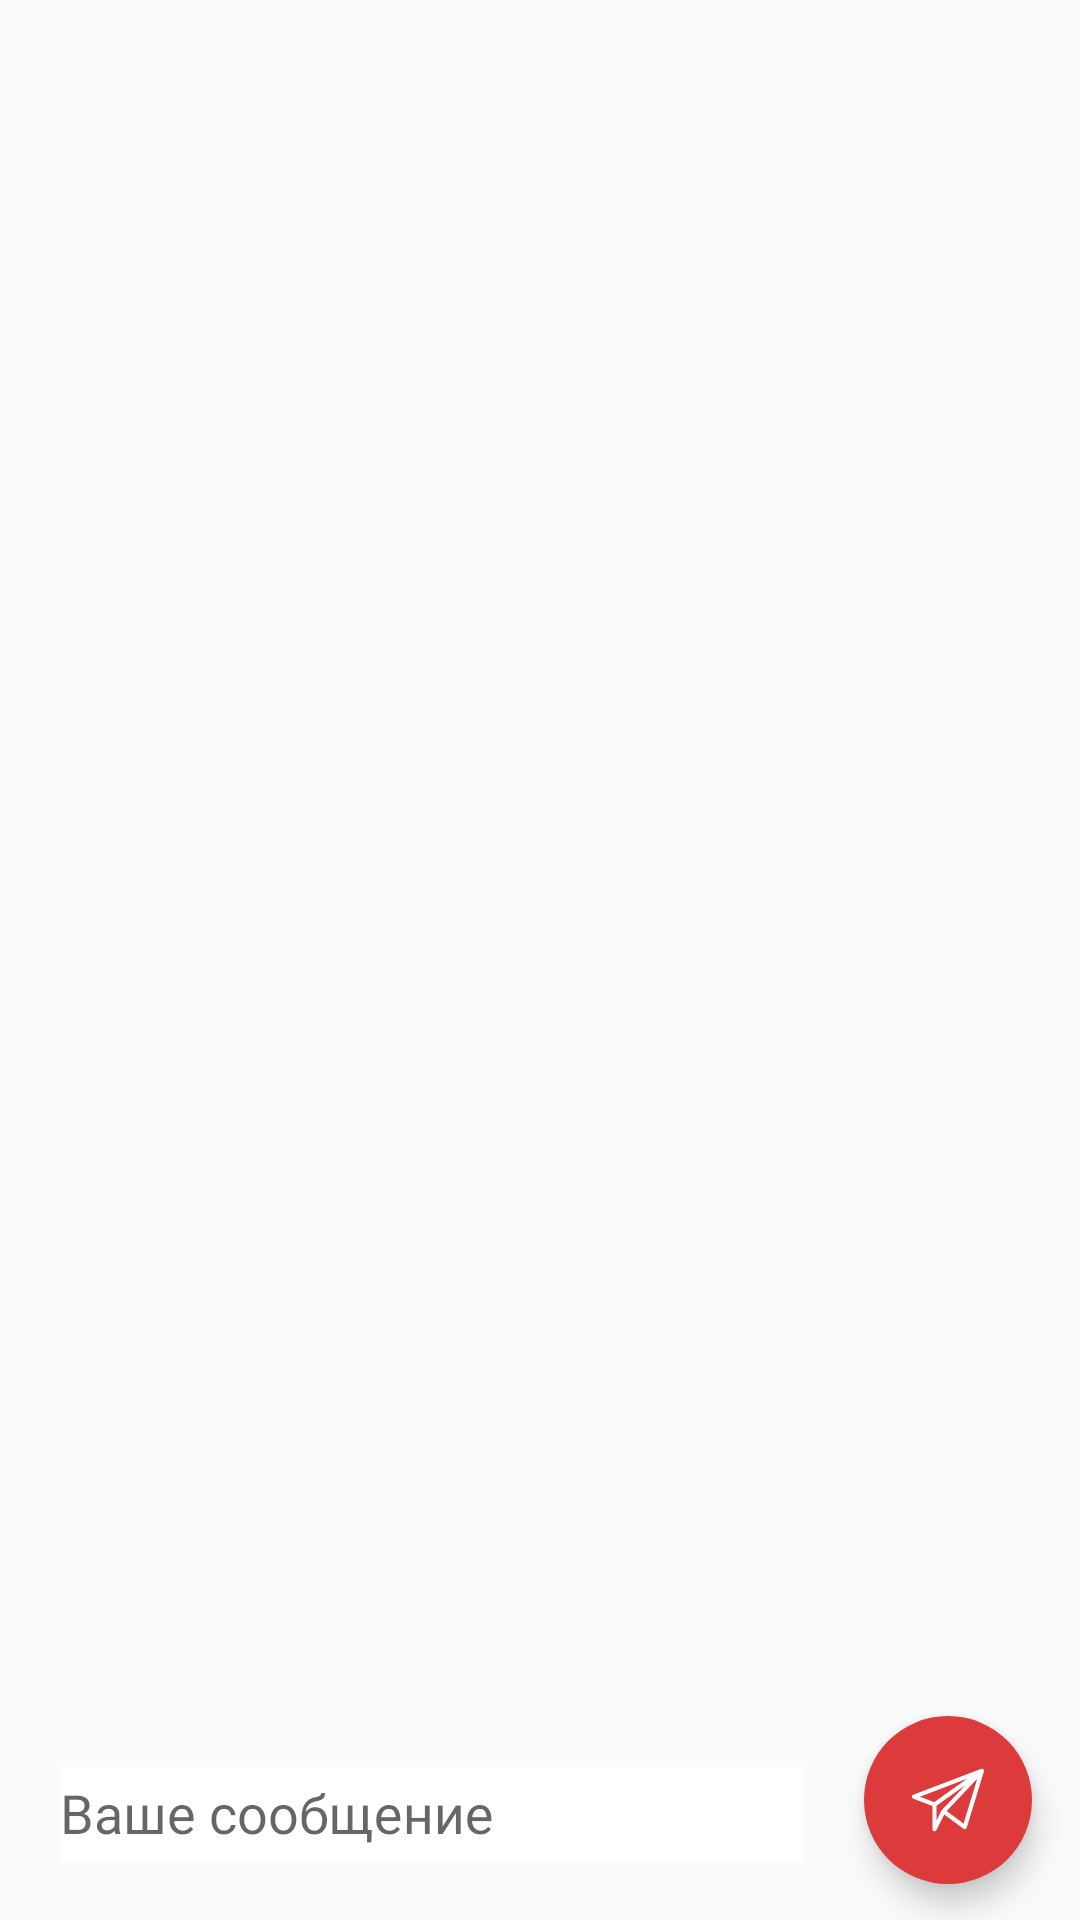

Where to tap for icons on this 1080 x 1920 app screen, as (x,y):
send: (948,1800)
